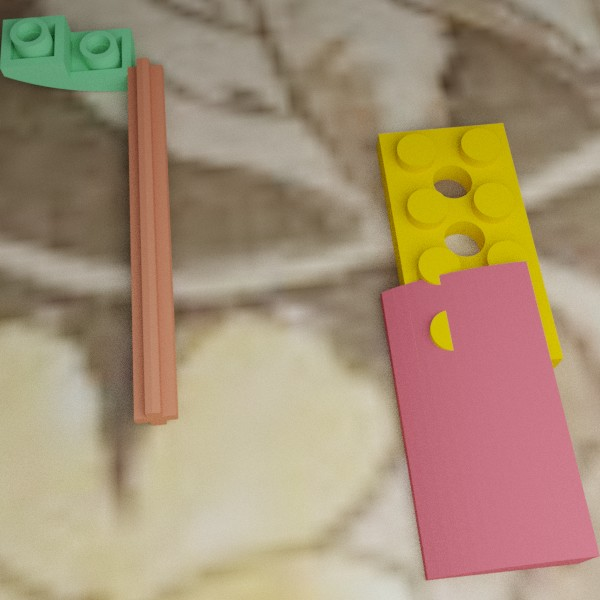24201: (0, 15, 136, 91)
3706: (127, 57, 178, 425)
3709b: (376, 123, 563, 381)
88930: (380, 261, 600, 580)
